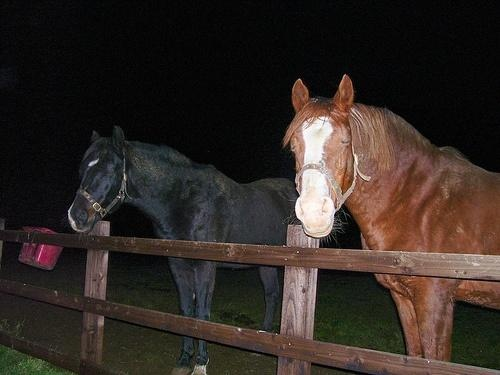horse: (72, 128, 340, 375), (284, 77, 500, 375)
